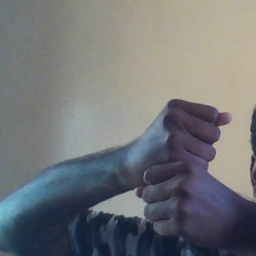G: (130, 92, 235, 243)
